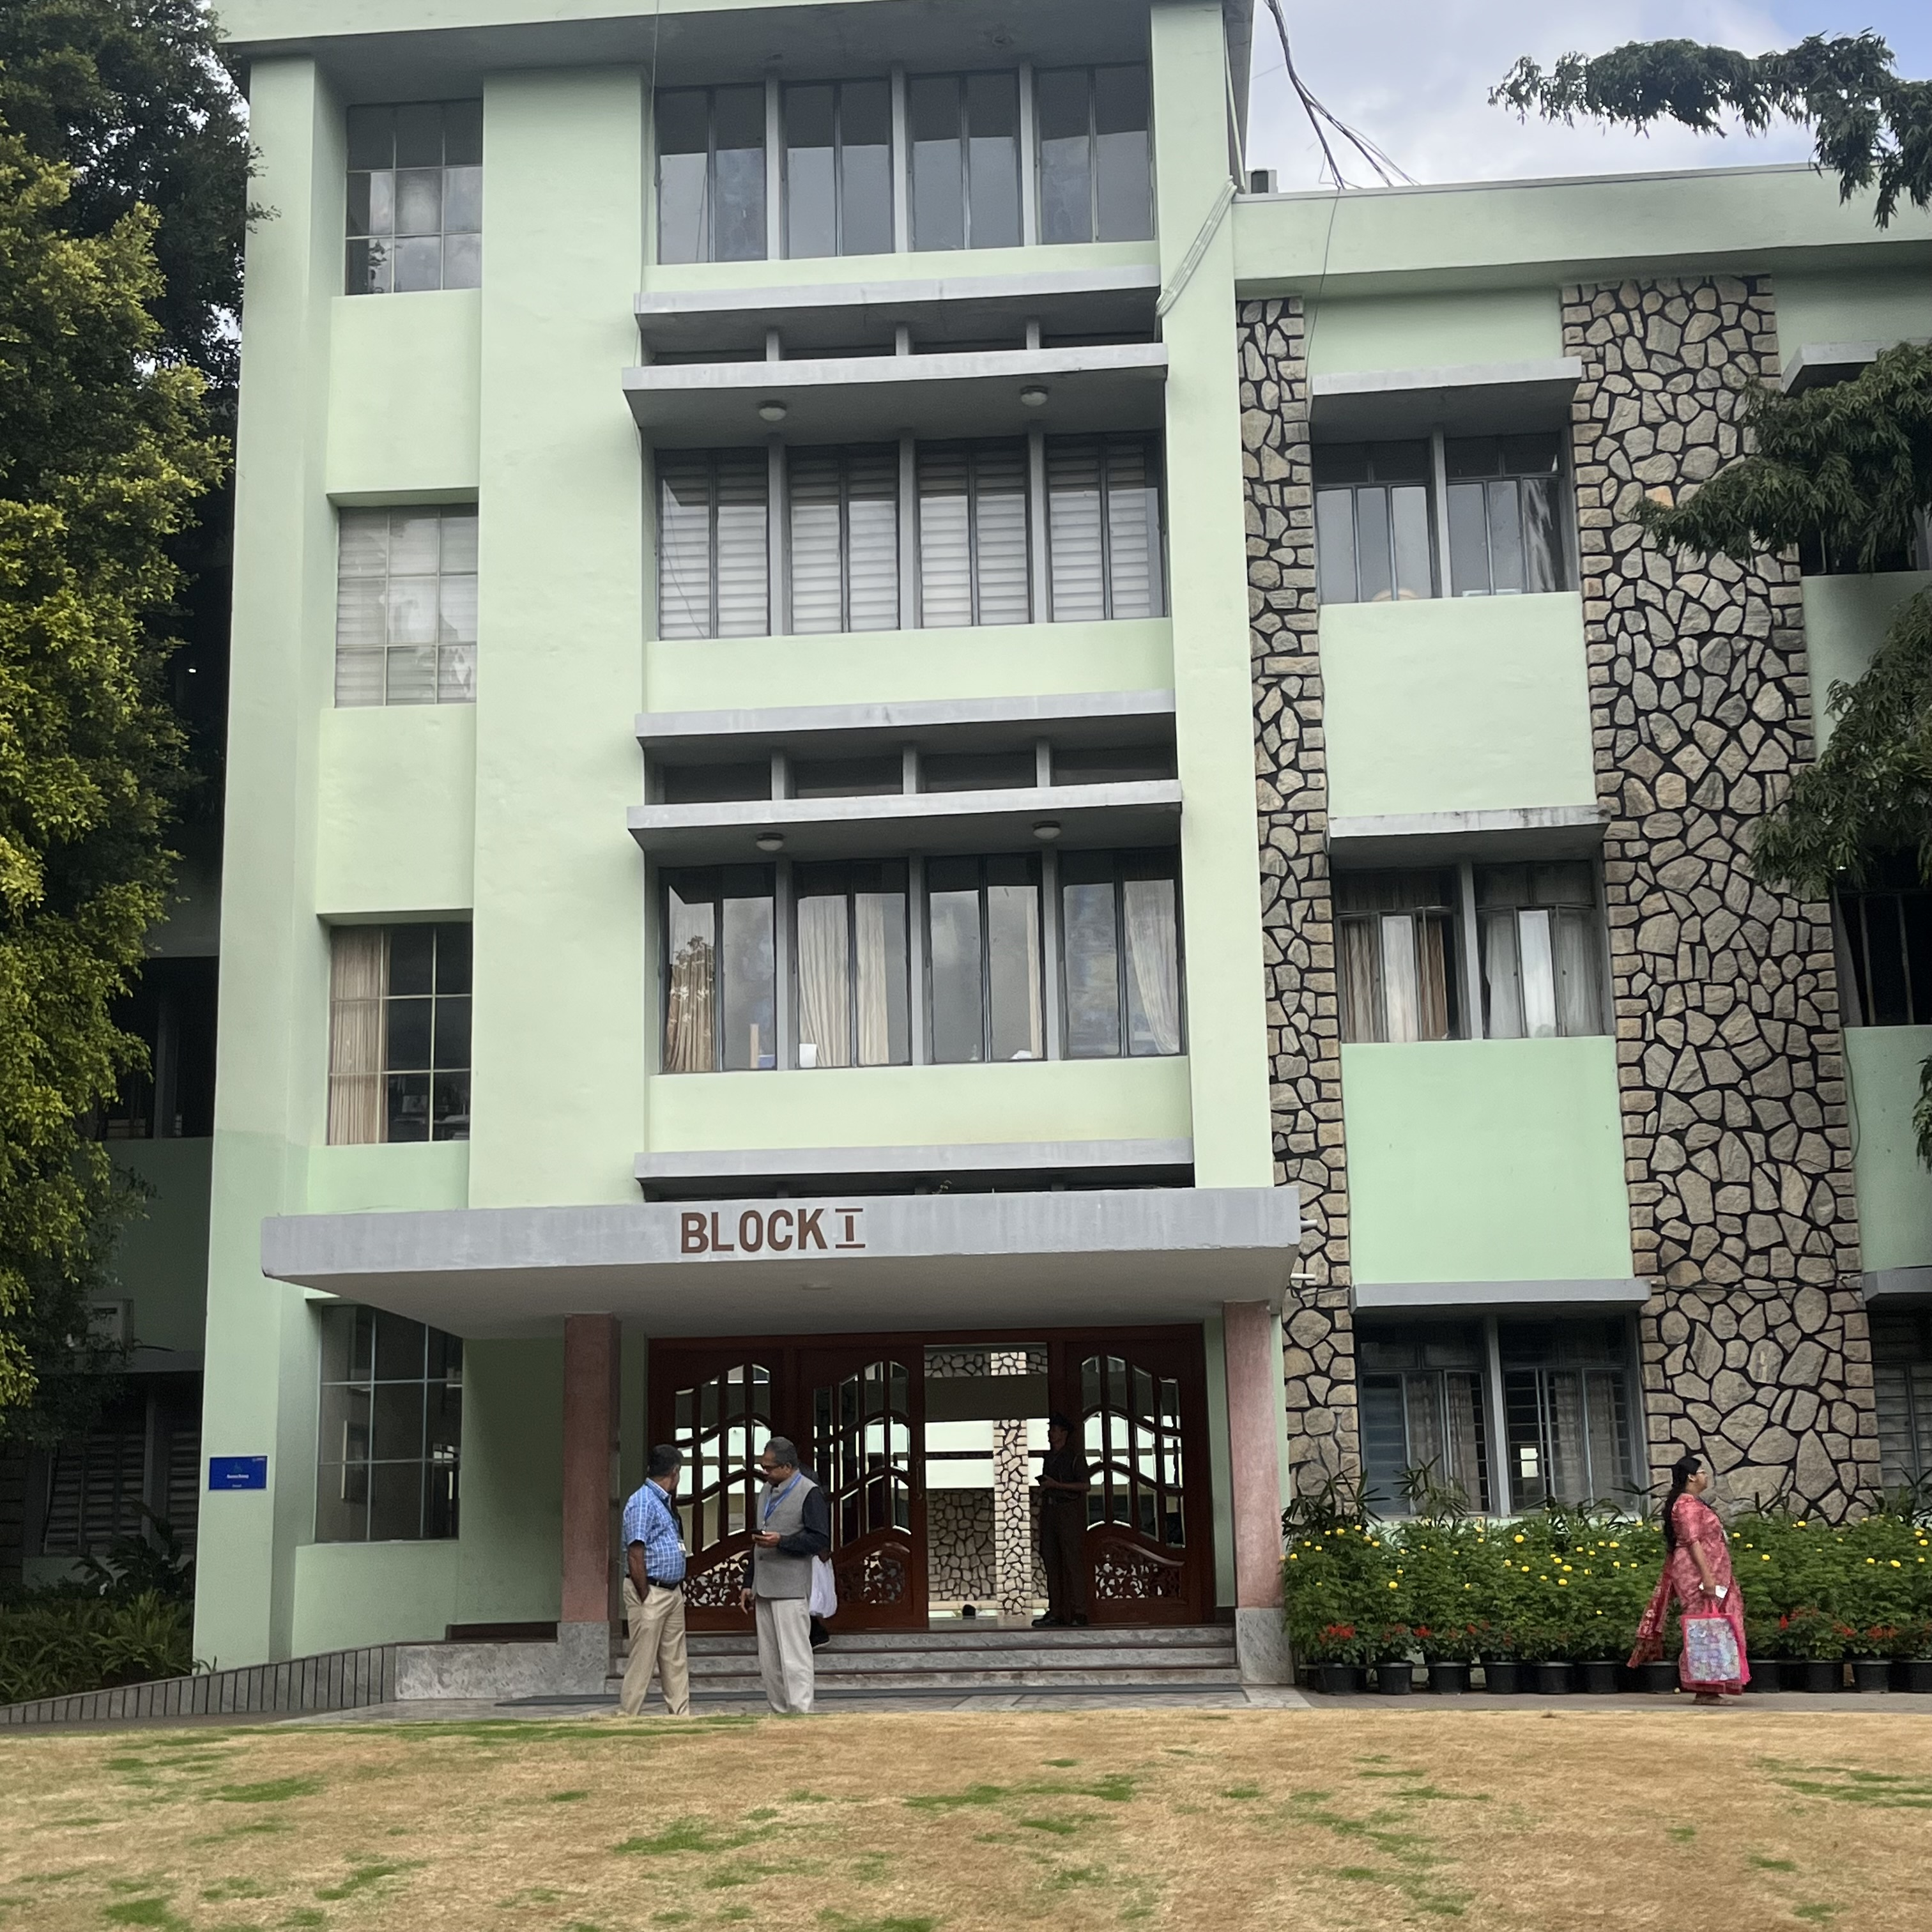Block 1: (230, 14, 1842, 1663)
